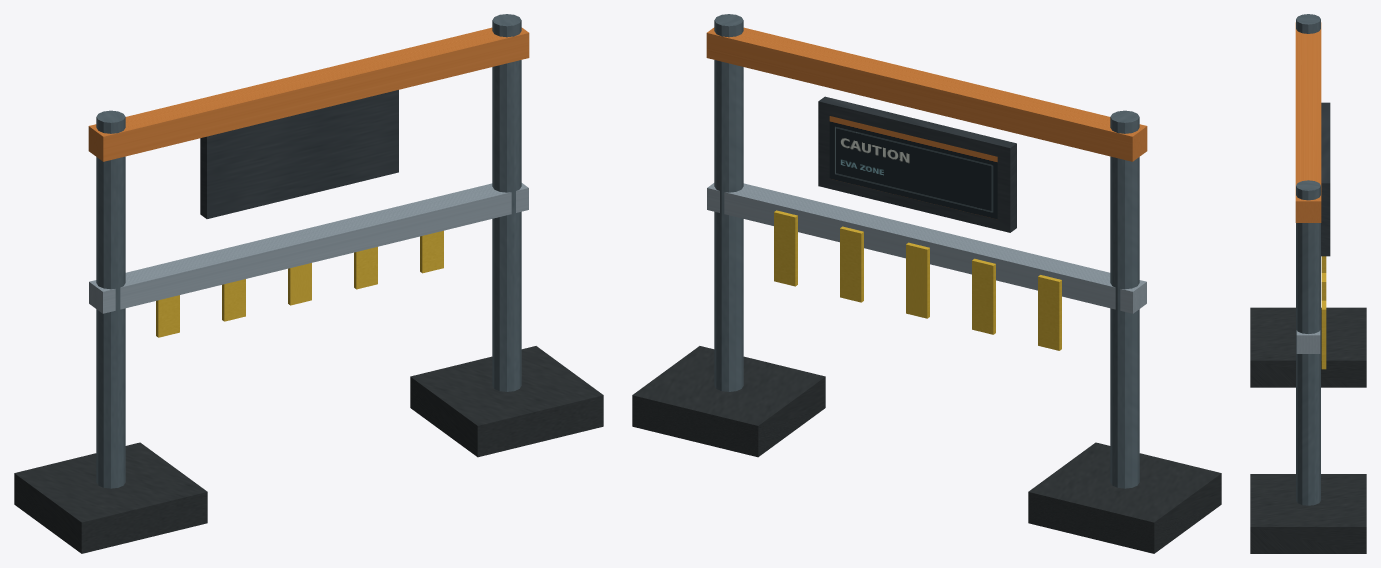
The model's file is safety_barrier.glb.
3 renders of one model, left to right at view 1: azimuth 30°, elevation 25°; view 2: azimuth 150°, elevation 25°; view 3: azimuth 270°, elevation 25°, orthographic. The views are drawn at different scales.
Visible parts, largest first — view 1: barrier_feet_rubber, barrier_posts_metal_dark, barrier_top_rail_orange, warning_sign_graphite, barrier_mid_rail_steel, stripe_panels_hazard; view 2: barrier_feet_rubber, barrier_posts_metal_dark, barrier_top_rail_orange, barrier_mid_rail_steel, barrier_warning_LABEL_CAUTION, stripe_panels_hazard, warning_sign_graphite; view 3: barrier_feet_rubber, barrier_posts_metal_dark, barrier_top_rail_orange, warning_sign_graphite, stripe_panels_hazard, barrier_mid_rail_steel.
Part boxes in pixels (box(x1,y1,x2,y2)): barrier_feet_rubber: box(14, 346, 603, 553); barrier_posts_metal_dark: box(96, 14, 521, 488); barrier_top_rail_orange: box(88, 27, 529, 161); warning_sign_graphite: box(200, 90, 398, 218); barrier_mid_rail_steel: box(89, 183, 528, 313); stripe_panels_hazard: box(156, 230, 443, 337); barrier_feet_rubber: box(632, 346, 1221, 553); barrier_posts_metal_dark: box(714, 14, 1139, 488); barrier_top_rail_orange: box(706, 27, 1147, 161); barrier_mid_rail_steel: box(707, 183, 1146, 313); barrier_warning_LABEL_CAUTION: box(829, 116, 997, 219); stripe_panels_hazard: box(774, 210, 1061, 350); warning_sign_graphite: box(818, 96, 1016, 232); barrier_feet_rubber: box(1250, 307, 1366, 553); barrier_posts_metal_dark: box(1296, 14, 1320, 505); barrier_top_rail_orange: box(1295, 22, 1321, 222); warning_sign_graphite: box(1321, 102, 1330, 256); stripe_panels_hazard: box(1321, 256, 1326, 369); barrier_mid_rail_steel: box(1296, 330, 1320, 353).
Bounding box in the file's own units: 1.74 × 1.26 × 0.39.
7 materials, 7 textured.
